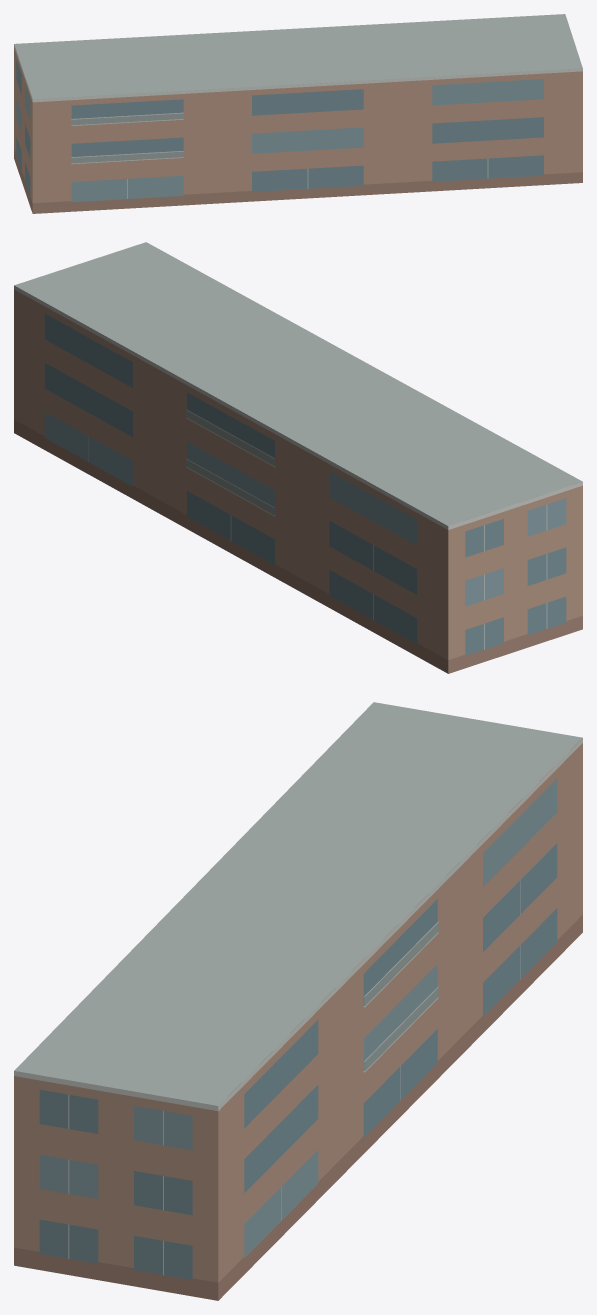
The model's file is survey-upis-32518873.glb.
3 renders of one model, top to bottom at view 1: azimuth 30°, elevation 25°; view 2: azimuth 150°, elevation 25°; view 3: azimuth 270°, elevation 25°, orthographic. The views are drawn at different scales.
Visible parts, largest first — view 1: survey-upis-32518873.tmp; view 2: survey-upis-32518873.tmp; view 3: survey-upis-32518873.tmp.
Boxes of the visible parts, x1,y1,x2,y2 form: survey-upis-32518873.tmp: (14,14,582,213); survey-upis-32518873.tmp: (14,242,582,673); survey-upis-32518873.tmp: (14,702,582,1300).
Size of the model in its own units: 40.71 by 9.15 by 24.22.
